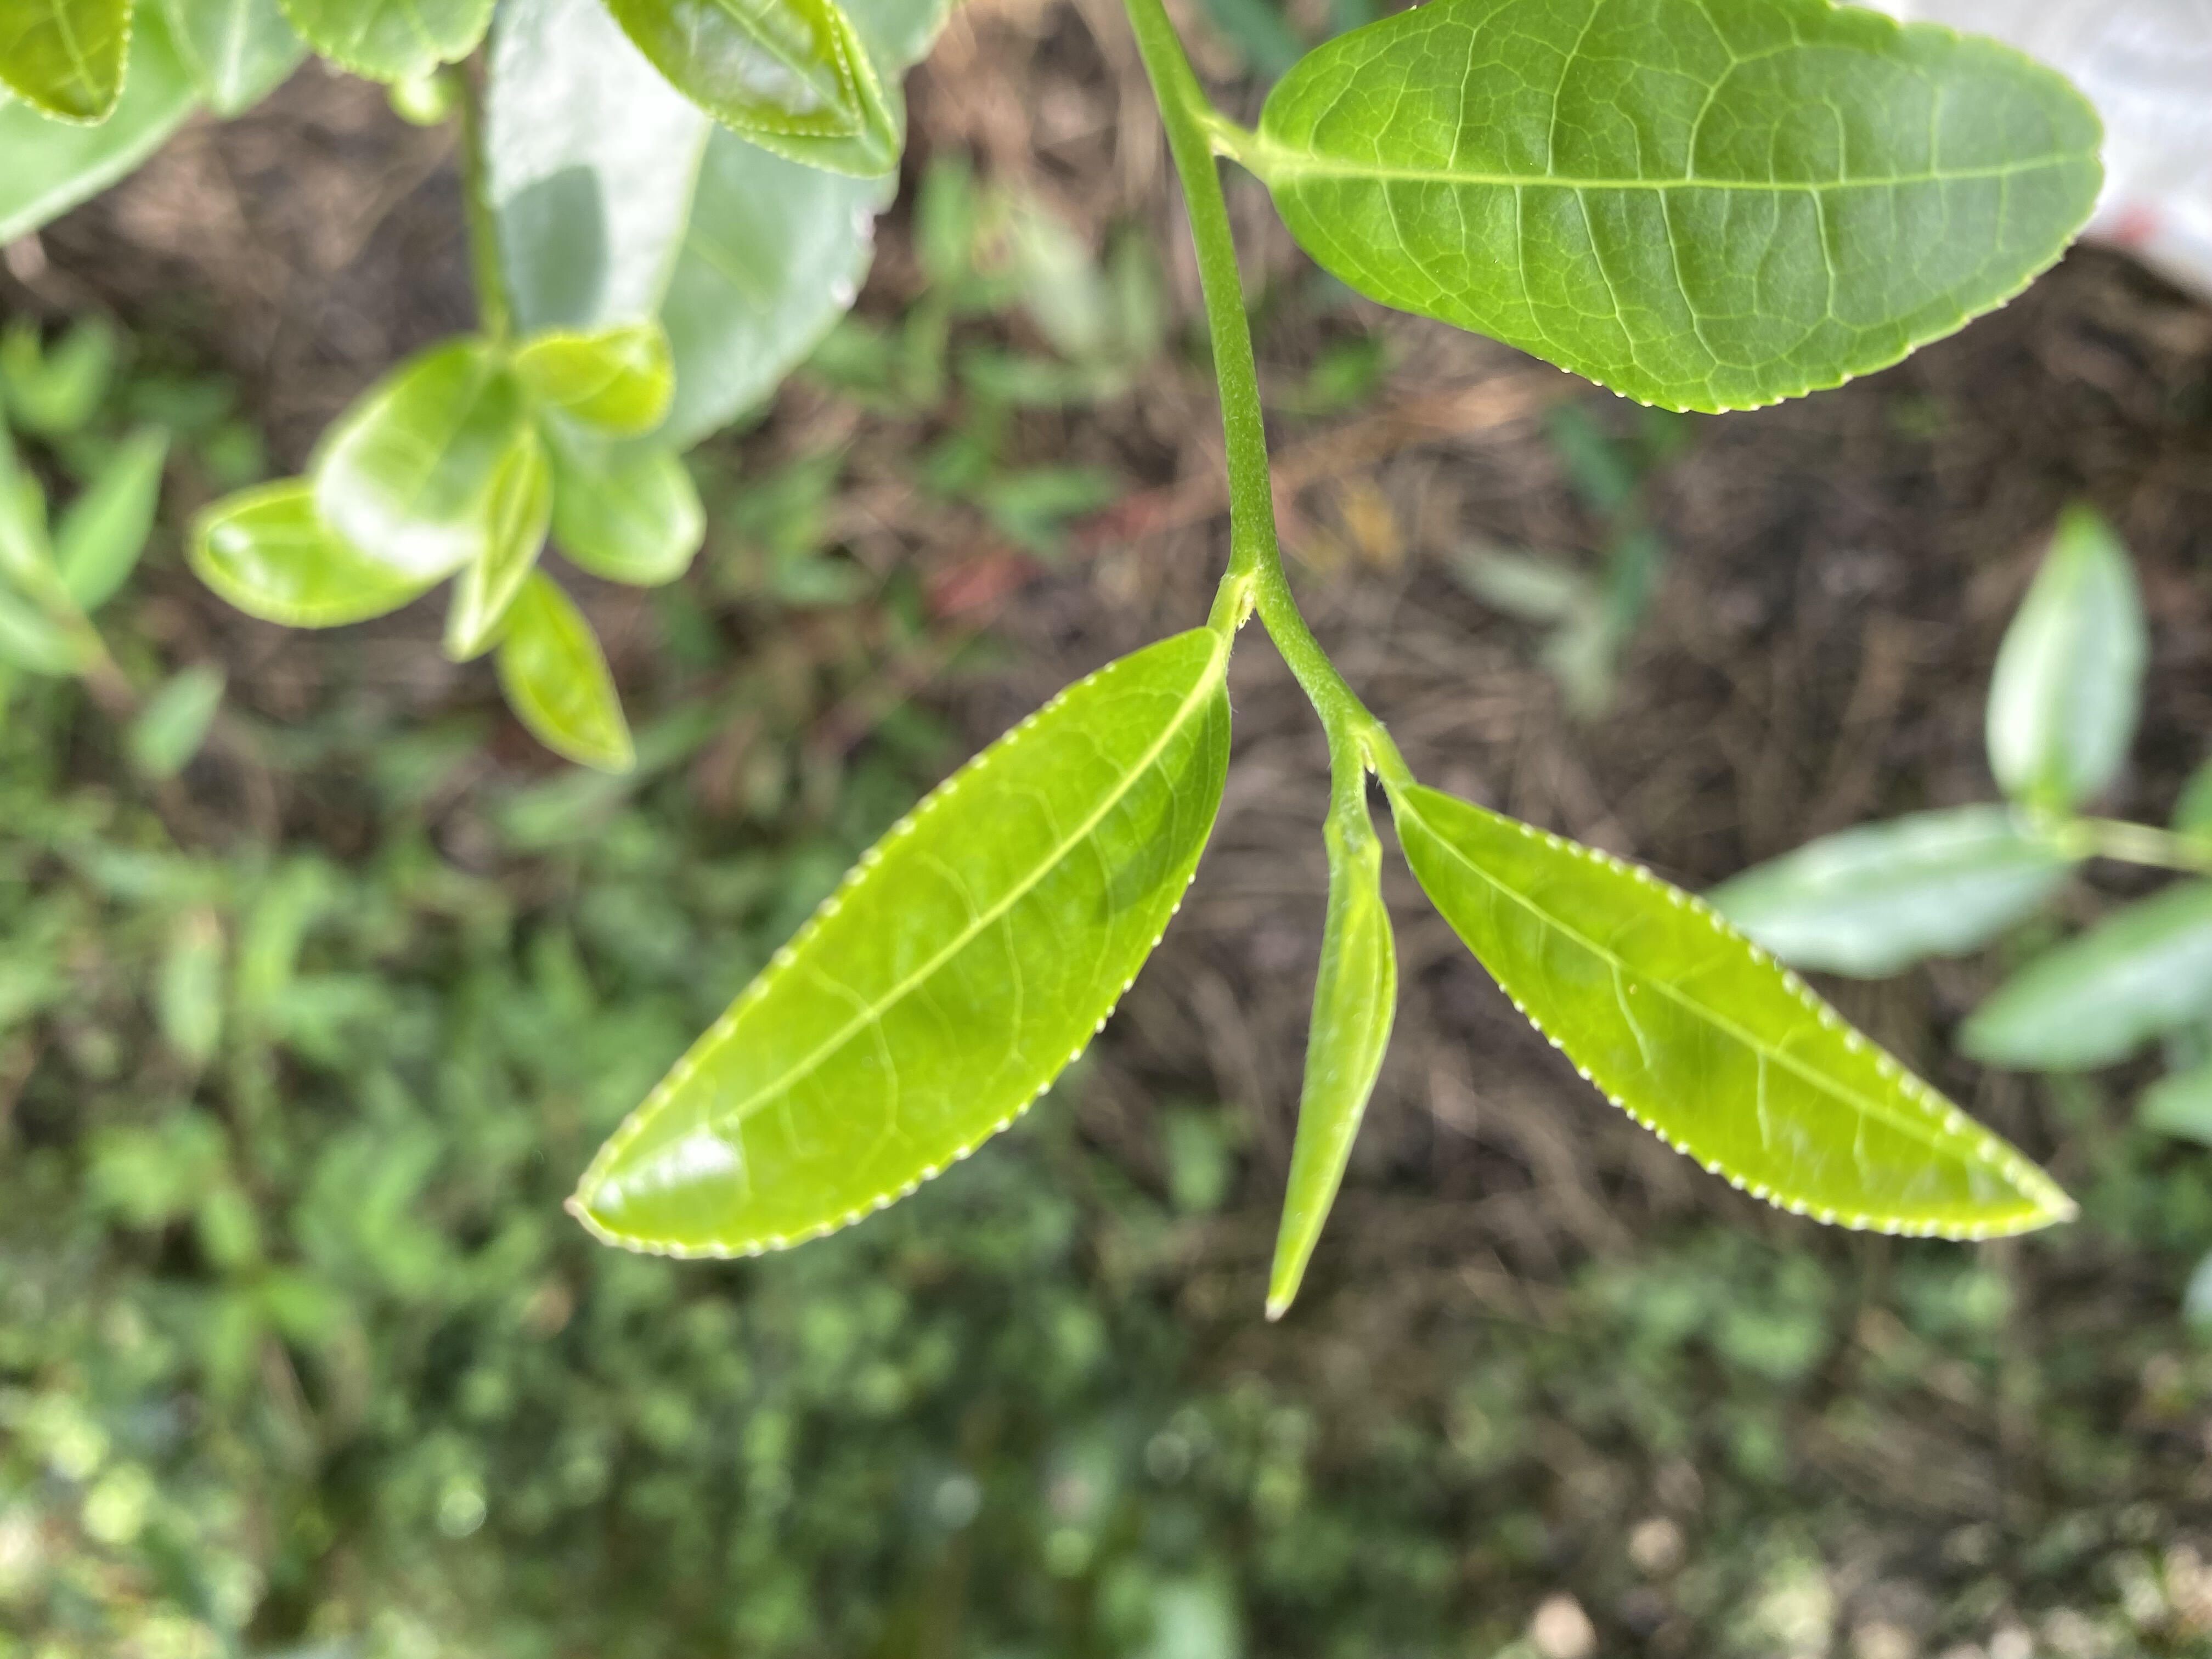healthy: (559, 624, 1235, 1265), (1254, 2, 2109, 416), (1392, 781, 2078, 1239)
